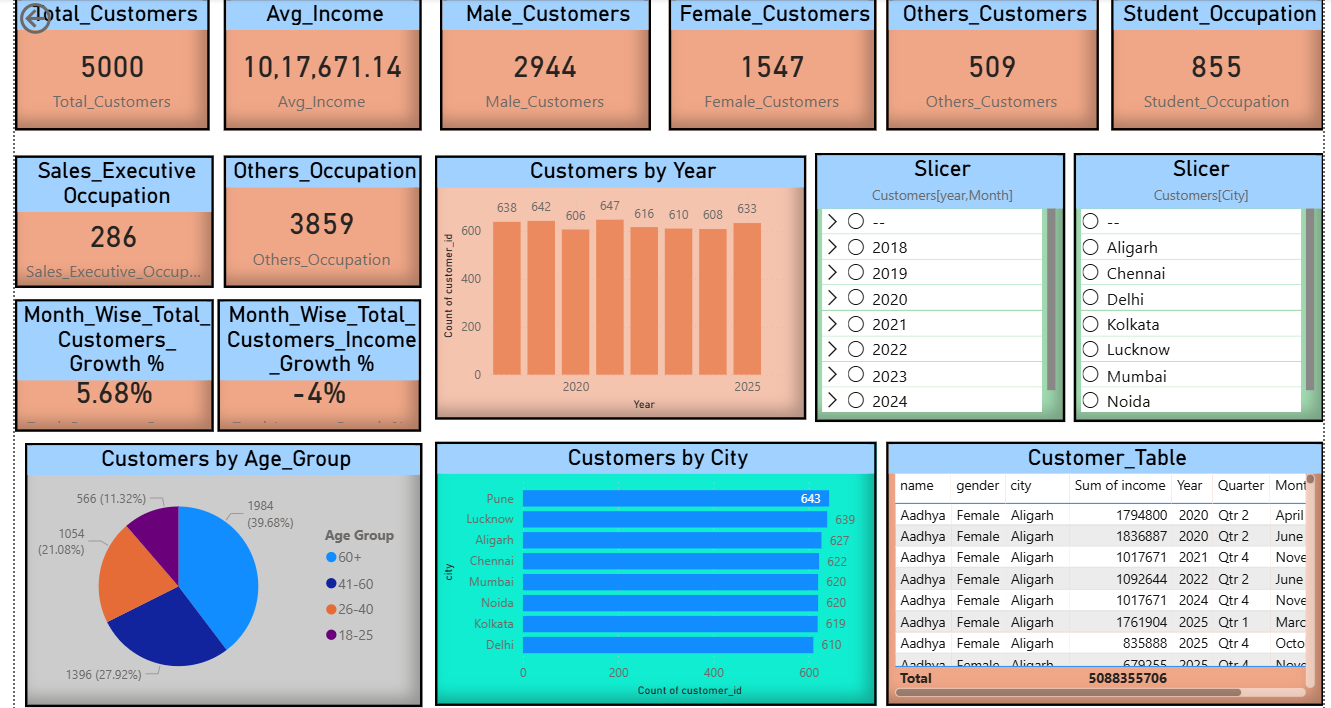

Layout of this report page (visuals, bound fields, positions):
{"tool":"powerbi","page":{"name":"Customers_Overview","canvas":[1280,720],"ordinal":0},"visuals":[{"type":"card","title":"Total_Customers","fields":{"Values":["All Measures.Total_Customers"]},"box":[0,0,190.8,129.6],"z":0},{"type":"card","title":"Avg_Income","fields":{"Values":["All Measures.Avg_Income"]},"box":[204.2,0,193.2,129.6],"z":1000},{"type":"card","title":"Male_Customers","fields":{"Values":["All Measures.Male_Customers"]},"box":[415.8,0,206.7,129.6],"z":2000},{"type":"card","title":"Others_Customers","fields":{"Values":["All Measures.Others_Customers"]},"box":[852.3,0,207.9,129.6],"z":3000},{"type":"card","title":"Female_Customers","fields":{"Values":["All Measures.Female_Customers"]},"box":[639.5,0,203,129.6],"z":4000},{"type":"pieChart","title":"Customers by Age_Group","fields":{"Category":["customers_Data.Age Group"],"Y":["CountNonNull(customers_Data.customer_id)"],"Series":["customers_Data.Age_Group_Category"]},"box":[9.8,435.3,388.9,258],"z":5000},{"type":"barChart","title":"Customers by City","fields":{"Category":["customers_Data.city"],"Y":["CountNonNull(customers_Data.customer_id)"]},"box":[410.9,434.1,431.7,258],"z":6000},{"type":"listSlicer","title":"Slicer","fields":{"Values":["customers_Data.city"]},"box":[1035.7,151.6,244.6,262.9],"z":7000},{"type":"tableEx","title":"Customer_Table","fields":{"Values":["customers_Data.name","customers_Data.gender","customers_Data.city","Sum(customers_Data.income)","customers_Data.signup_date.Variation.Date Hierarchy.Year","customers_Data.signup_date.Variation.Date Hierarchy.Quarter","customers_Data.signup_date.Variation.Date Hierarchy.Month","customers_Data.signup_date.Variation.Date Hierarchy.Day"]},"box":[852.3,434.1,428,258],"z":8000},{"type":"actionButton","box":[0,0,100,40],"z":9000},{"type":"card","title":"Student_Occupation","fields":{"Values":["All Measures.Student_Occupation"]},"box":[1072.4,0,207.9,129.6],"z":10000},{"type":"card","title":"Sales_Executive Occupation","fields":{"Values":["All Measures.Sales_Executive_Occupation"]},"box":[0,154.1,194.4,129.6],"z":11000},{"type":"card","title":"Others_Occupation","fields":{"Values":["All Measures.Others_Occupation"]},"box":[204.2,154.1,193.2,129.6],"z":12000},{"type":"listSlicer","title":"Slicer","fields":{"Values":["customers_Data.Year","customers_Data.Month_Name"]},"box":[782.6,151.6,244.6,262.9],"z":13000},{"type":"columnChart","title":"Customers by Year","fields":{"Category":["customers_Data.Year"],"Y":["CountNonNull(customers_Data.customer_id)"]},"box":[410.9,151.6,363.2,262.9],"z":14000},{"type":"card","title":"Month_Wise_Total_Customers_    Growth %","fields":{"Values":["All Measures.Total_Customer_Growth %"]},"box":[0,294.7,194.4,129.6],"z":15000},{"type":"card","title":"Month_Wise_Total_ Customers_Income_Growth %","fields":{"Values":["All Measures.Total_Income_Growth %"]},"box":[198.1,294.7,199.3,129.6],"z":16000}]}

Visuals, with their boxes in screenshot pixels (x1, y1, x2, y2):
"Total_Customers" card: region(21, 0, 212, 130)
"Avg_Income" card: region(226, 0, 420, 130)
"Male_Customers" card: region(438, 0, 646, 130)
"Others_Customers" card: region(877, 0, 1085, 130)
"Female_Customers" card: region(663, 0, 867, 130)
"Customers by Age_Group" pieChart: region(31, 437, 421, 696)
"Customers by City" barChart: region(433, 436, 867, 695)
"Slicer" listSlicer: region(1061, 152, 1306, 416)
"Customer_Table" tableEx: region(877, 436, 1306, 695)
actionButton: region(21, 0, 121, 40)
"Student_Occupation" card: region(1098, 0, 1306, 130)
"Sales_Executive Occupation" card: region(21, 155, 216, 285)
"Others_Occupation" card: region(226, 155, 420, 285)
"Slicer" listSlicer: region(807, 152, 1052, 416)
"Customers by Year" columnChart: region(433, 152, 798, 416)
"Month_Wise_Total_Customers_    Growth %" card: region(21, 296, 216, 426)
"Month_Wise_Total_ Customers_Income_Growth %" card: region(220, 296, 420, 426)
